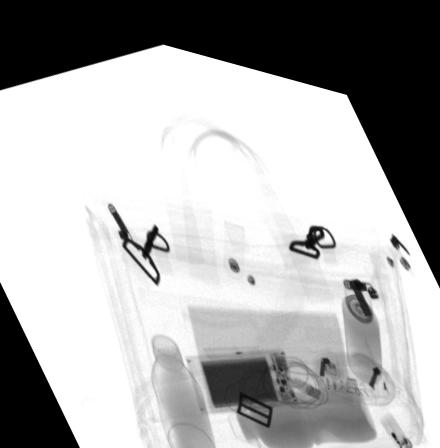Lighter: (381, 391, 413, 432)
Powerbank: (183, 331, 301, 400)
Sprayer: (342, 258, 384, 366)
